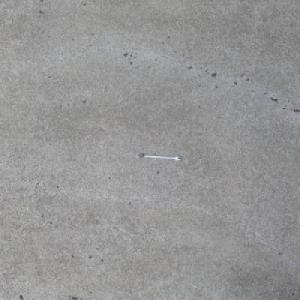Wrench: (136, 153, 182, 160)
